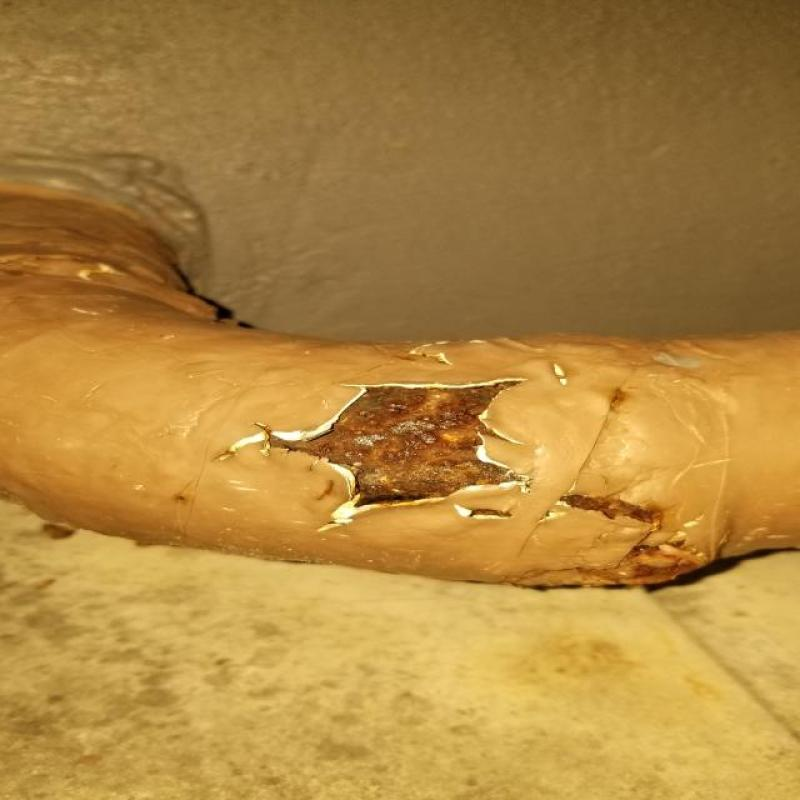corrosion: (292, 370, 538, 505)
